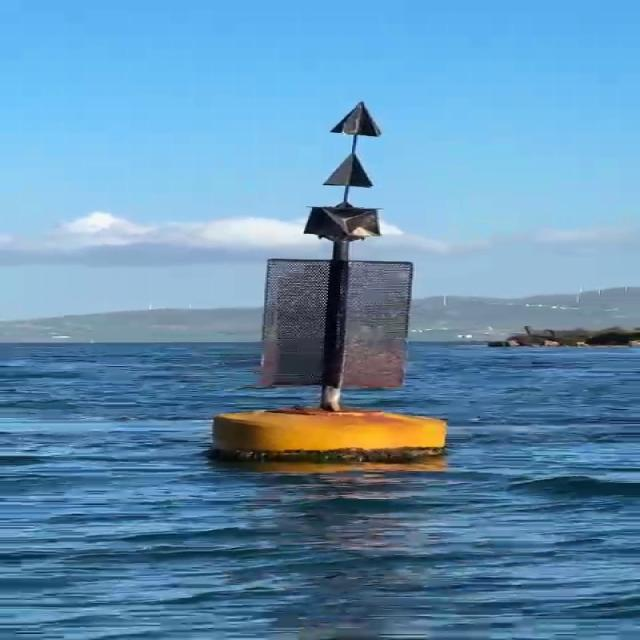marque: (221, 103, 455, 463)
